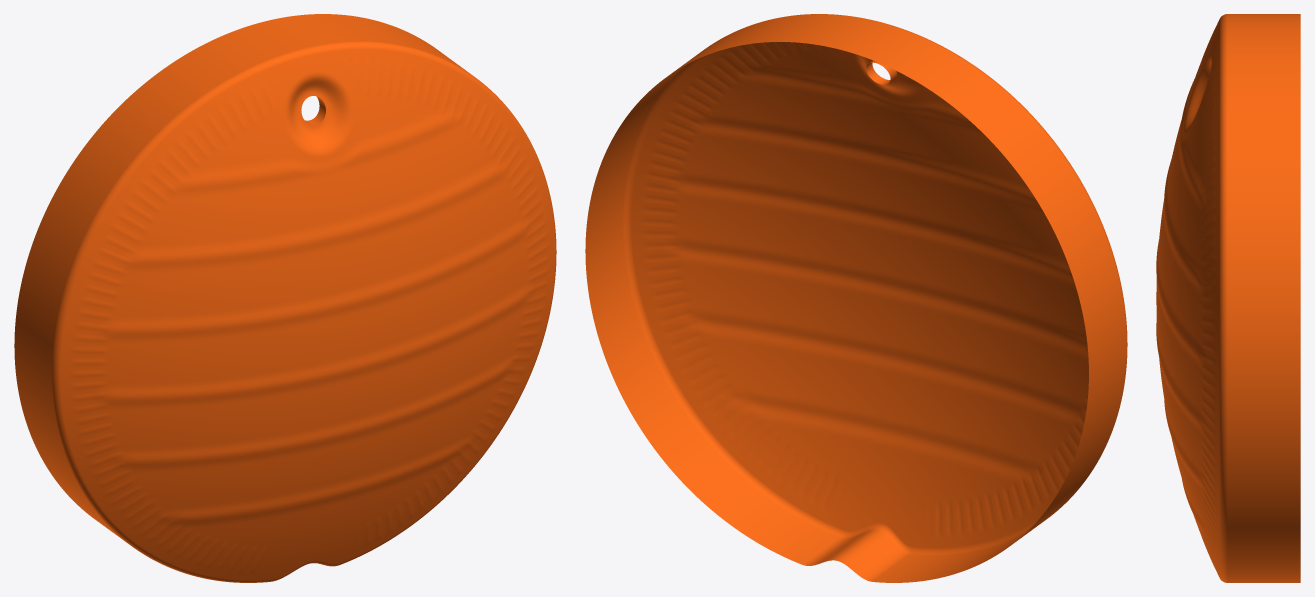
The model's file is indicator-front-lens-v1.glb.
3 views of the same model, side by side, from view 1: azimuth 30°, elevation 25°; view 2: azimuth 150°, elevation 25°; view 3: azimuth 270°, elevation 25° (orthographic). The views are drawn at different scales.
Visible parts, largest first — view 1: Front indicator lens amber rendering candidate - estimated; view 2: Front indicator lens amber rendering candidate - estimated; view 3: Front indicator lens amber rendering candidate - estimated.
Boxes of the visible parts, <box> form: Front indicator lens amber rendering candidate - estimated: <box>14,14,556,582</box>; Front indicator lens amber rendering candidate - estimated: <box>585,14,1127,582</box>; Front indicator lens amber rendering candidate - estimated: <box>1156,14,1300,582</box>.
Bounding box in the file's own units: 0.0631 × 0.0629 × 0.016.
